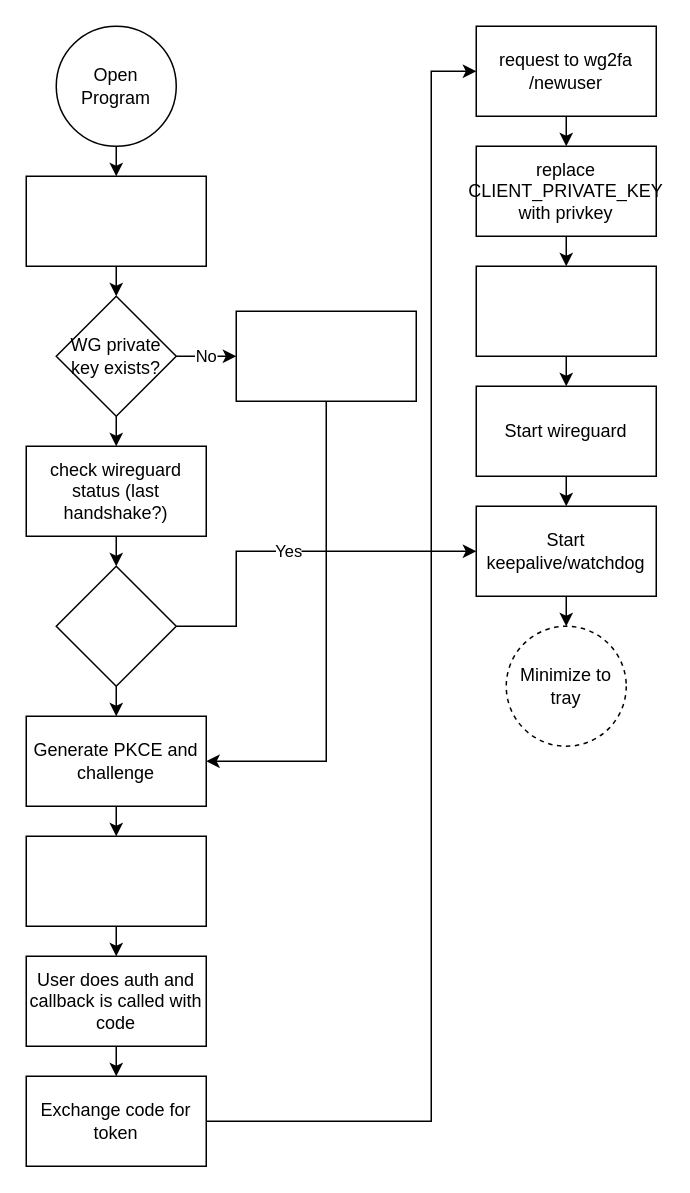
This 690x1193 diagram has some shape labels left out. Each missing label, with the centre of its shape:
Check Config: point 115,220
Generate key: point 325,355
Go to OKTA url: point 115,880
Is WG up?: point 115,625
Store conf file safely: point 565,310
